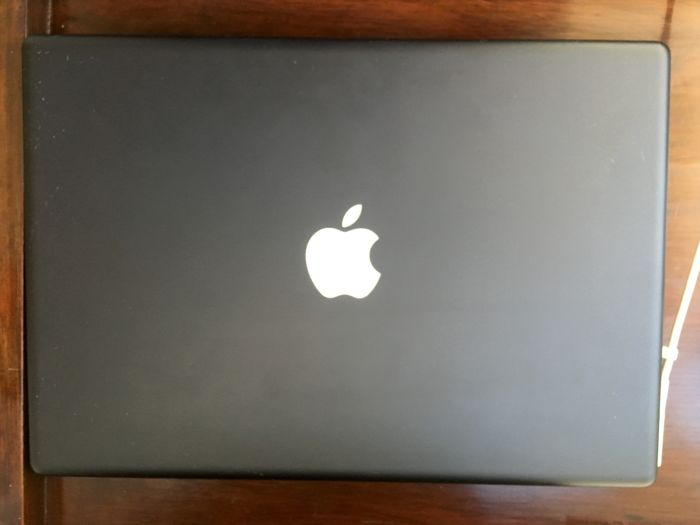apple: (298, 187, 386, 305)
